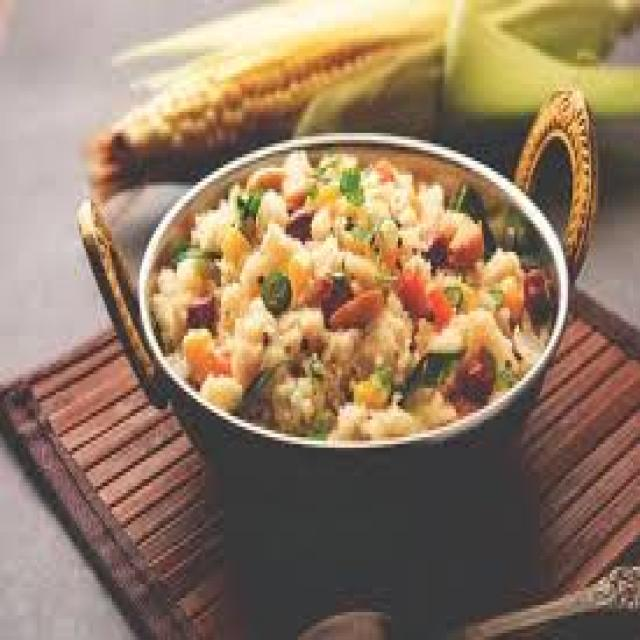UPMA: (149, 154, 547, 427)
